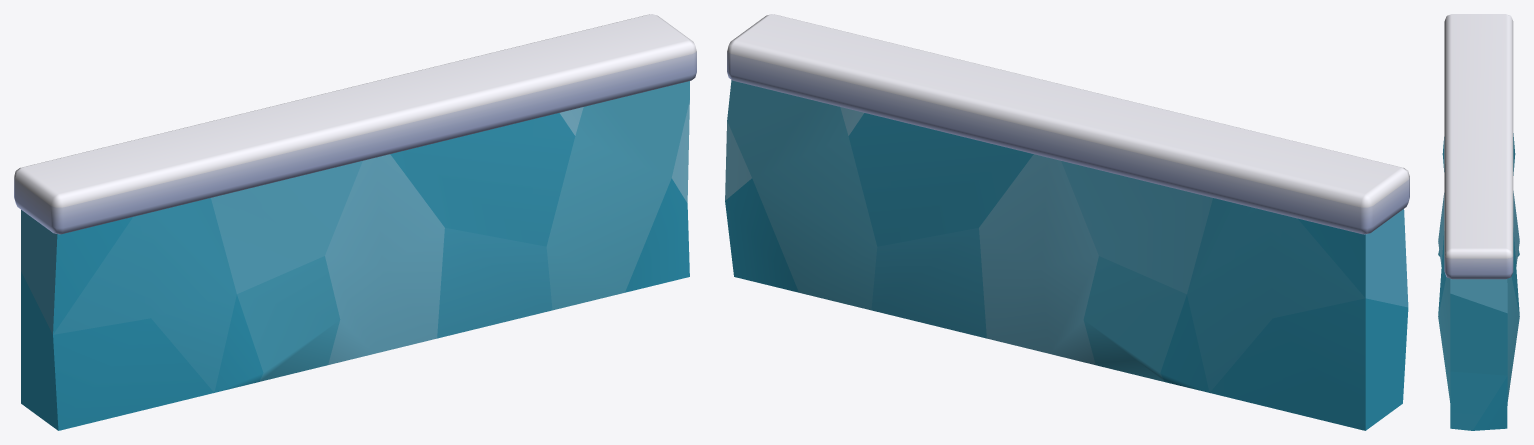
Rendered from fence1.fbx.
The picture shows the model from 3 angles, left to right: view 1: azimuth 30°, elevation 25°; view 2: azimuth 150°, elevation 25°; view 3: azimuth 270°, elevation 25°; orthographic projection. The views are drawn at different scales.
Parts seen in each view (by area): view 1: fence1; view 2: fence1; view 3: fence1.
Part boxes in pixels (x1,y1,x2,y2): fence1: (14, 14, 696, 430); fence1: (725, 14, 1409, 430); fence1: (1438, 14, 1519, 430).
Size of the model in its own units: 884 by 308 by 127.
